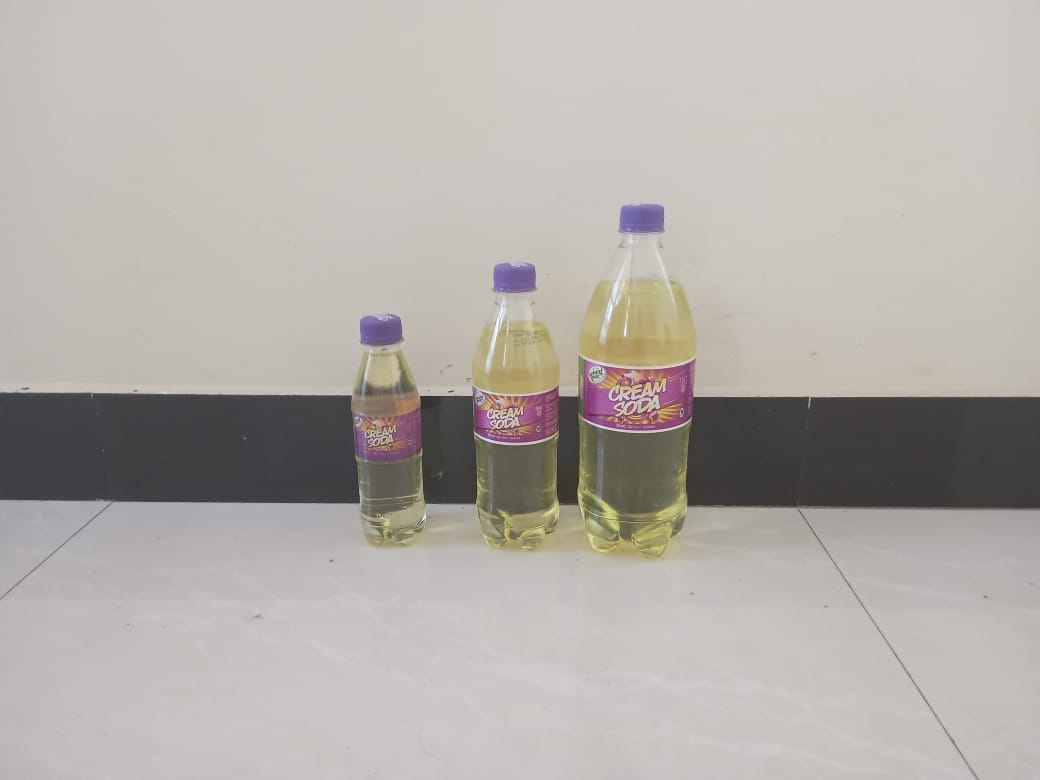M: (579, 207, 700, 563)
S: (468, 265, 568, 561)
Xs: (347, 312, 431, 550)
